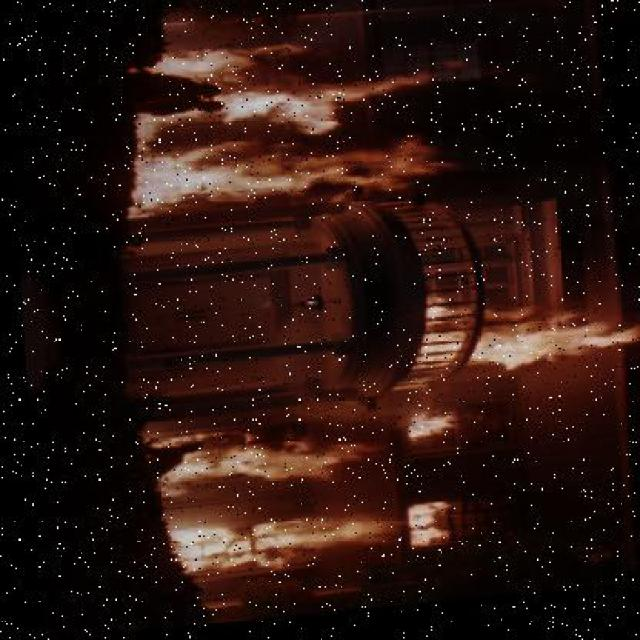fire: (129, 51, 528, 234)
